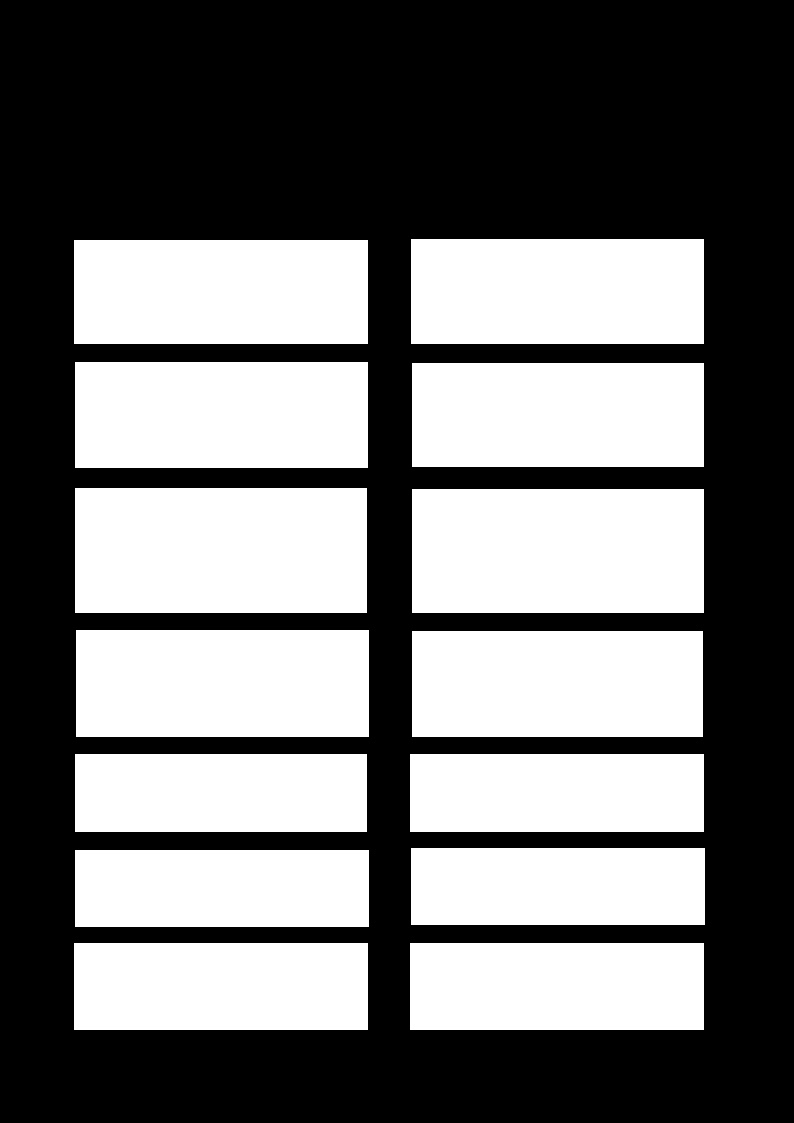table: (75, 488, 366, 612), (412, 489, 703, 612), (76, 630, 368, 736), (75, 362, 367, 467), (412, 631, 702, 736), (411, 239, 703, 343), (74, 240, 367, 343), (412, 363, 703, 466), (74, 943, 367, 1029), (410, 943, 703, 1029), (410, 754, 703, 831), (75, 754, 366, 831), (75, 850, 368, 926), (411, 848, 704, 924)
